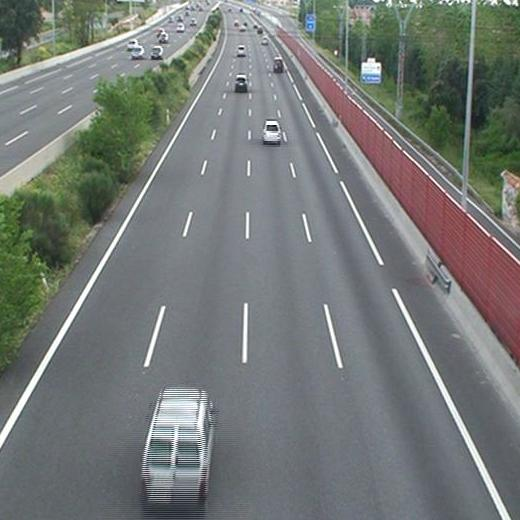car: (263, 121, 282, 142), (234, 74, 247, 90), (273, 58, 283, 71), (236, 45, 245, 56), (261, 36, 269, 46)
van: (142, 389, 211, 506)
